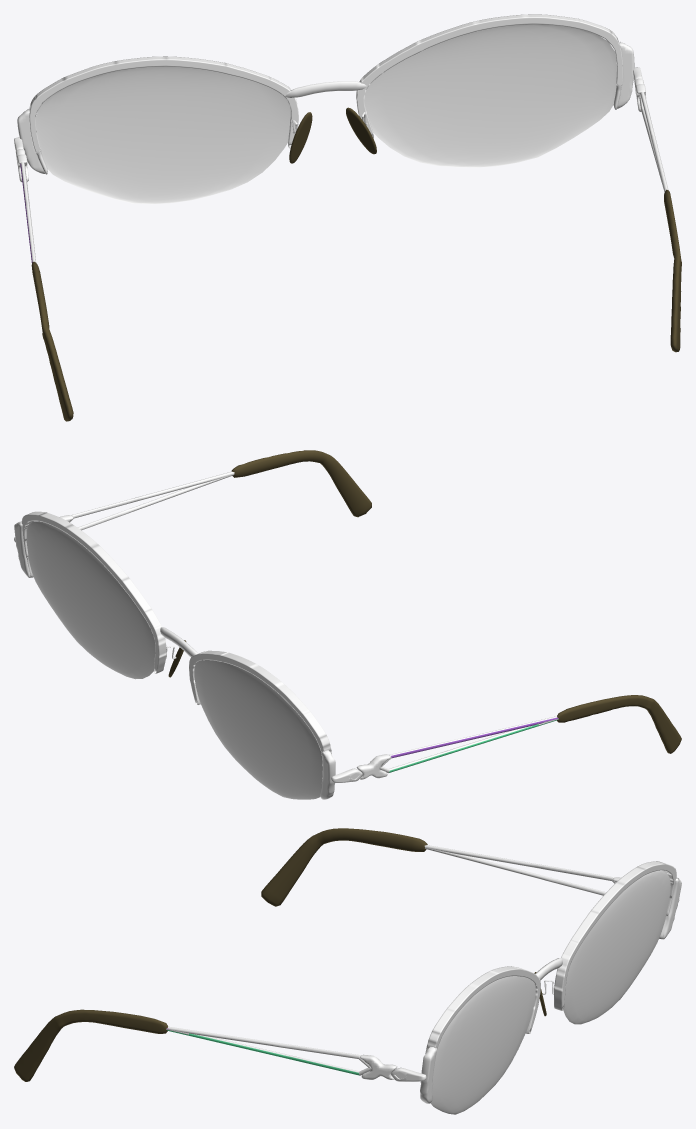
Rendered from megane_grandma.fbx.
3 views of the same model, one above another, from view 1: azimuth 30°, elevation 25°; view 2: azimuth 150°, elevation 25°; view 3: azimuth 270°, elevation 25° (orthographic). The views are drawn at different scales.
Parts seen in each view (by area): view 1: frame11; view 2: frame11; view 3: frame11.
Part boxes in pixels (<box>): frame11: <box>14,14,681,421</box>; frame11: <box>14,450,681,799</box>; frame11: <box>14,828,681,1114</box>.
Size of the model in its own units: 14.33 by 4 by 13.33.
